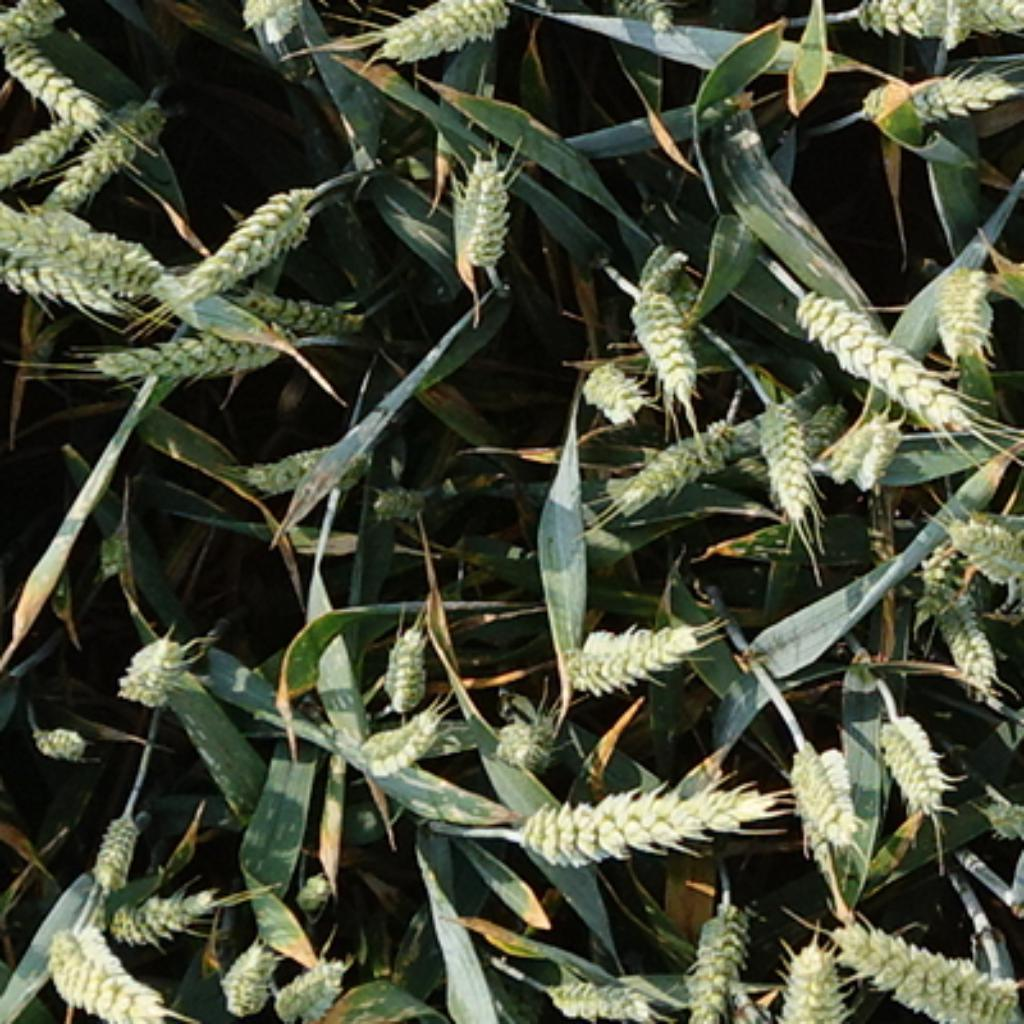0-0: (797, 291, 981, 437), (501, 778, 778, 867), (0, 199, 185, 315), (176, 171, 325, 302), (89, 312, 304, 384), (41, 82, 172, 197), (39, 917, 175, 1024), (235, 409, 389, 499), (619, 407, 752, 506), (566, 615, 717, 702), (622, 245, 709, 396), (857, 56, 1016, 133), (921, 570, 1003, 697), (785, 744, 867, 865), (2, 29, 110, 119), (446, 153, 523, 276), (750, 389, 821, 517), (675, 903, 750, 1024), (878, 716, 957, 824), (373, 0, 517, 58), (340, 698, 448, 773), (844, 0, 1024, 45), (2, 104, 110, 179), (227, 279, 366, 335), (926, 250, 1000, 355), (770, 931, 847, 1024), (824, 401, 906, 481), (542, 967, 657, 1024), (104, 878, 209, 939), (115, 622, 194, 701), (943, 518, 1024, 592), (2, 0, 71, 81), (376, 614, 435, 704), (488, 696, 563, 765), (273, 947, 348, 1016), (209, 947, 276, 1021), (87, 801, 145, 883), (576, 350, 645, 417), (29, 724, 96, 770), (371, 473, 437, 517), (89, 527, 138, 586), (291, 867, 343, 921)
